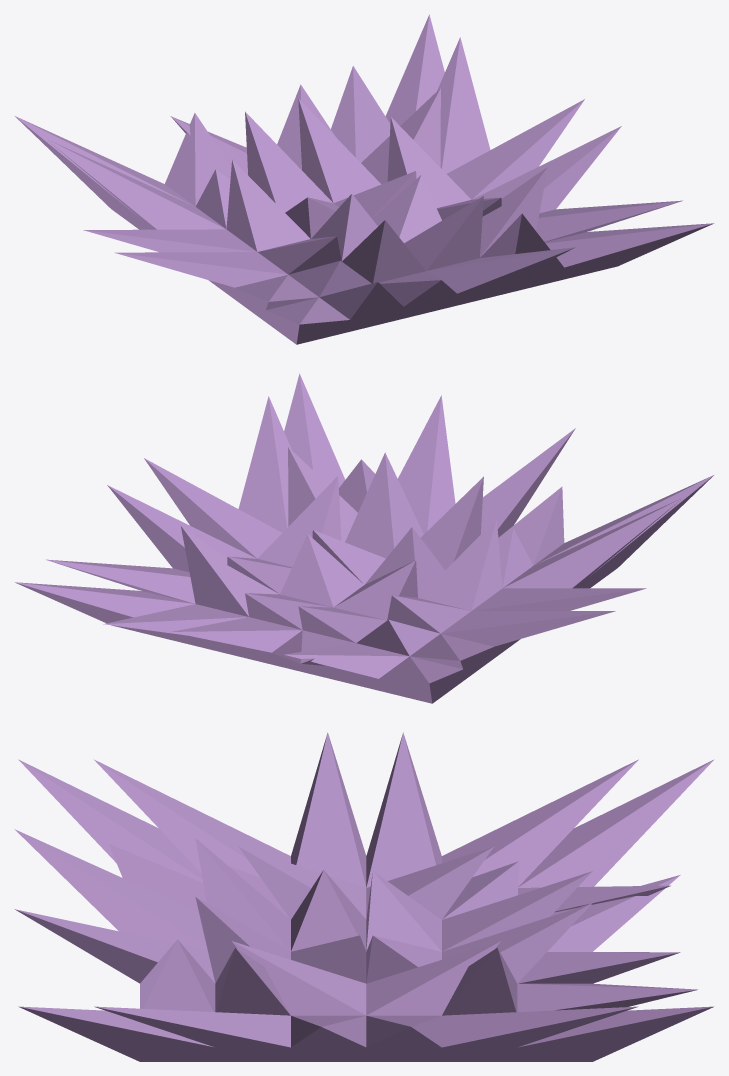
The model's file is spikeEffect.gltf.
3 renders of one model, top to bottom at view 1: azimuth 30°, elevation 25°; view 2: azimuth 150°, elevation 25°; view 3: azimuth 270°, elevation 25°, orthographic. The views are drawn at different scales.
Visible parts, largest first — view 1: スパイクエフェクト; view 2: スパイクエフェクト; view 3: スパイクエフェクト.
Part boxes in pixels (left/top/right/bottom): スパイクエフェクト: left=15, top=14, right=713, bottom=344; スパイクエフェクト: left=15, top=373, right=713, bottom=703; スパイクエフェクト: left=14, top=732, right=714, bottom=1061.
Bounding box in the file's own units: 42.71 × 6.55 × 41.98.
1 material, 1 textured.
